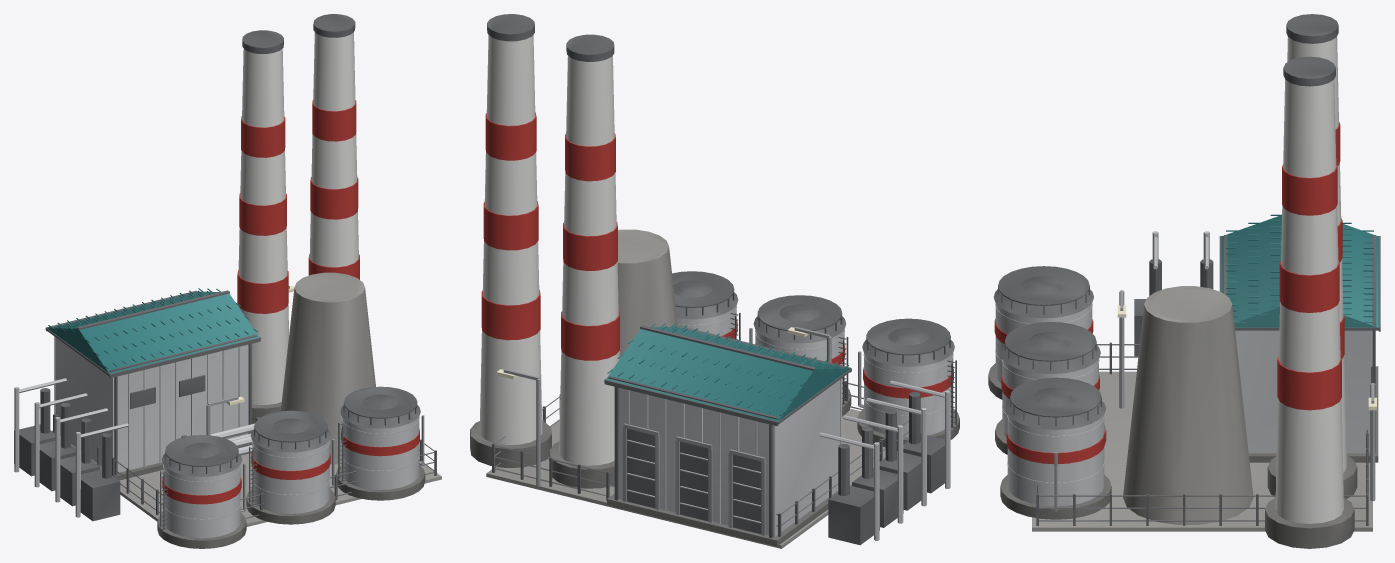
Rendered from Power_P3.fbx.
The picture shows the model from 3 angles, left to right: view 1: azimuth 30°, elevation 25°; view 2: azimuth 150°, elevation 25°; view 3: azimuth 270°, elevation 25°; orthographic projection. The views are drawn at different scales.
Parts seen in each view (by area): view 1: Power.Hall, Power.Stack0, Power.Stack1, Power.CoolingTowers, Power.Tank2, Power.Tank0, Power.Tank1, Power.Switchyard, Power.Yard, Power.Fence, Power.Pipes; view 2: Power.Hall, Power.Stack1, Power.Stack0, Power.Switchyard, Power.Tank0, Power.CoolingTowers, Power.Tank1, Power.Tank2, Power.Yard, Power.Fence, Power.Lamp1; view 3: Power.Stack1, Power.CoolingTowers, Power.Hall, Power.Tank2, Power.Yard, Power.Tank0, Power.Tank1, Power.Stack0, Power.Fence, Power.Switchyard, Power.Lamp0, Power.Lamp1.
Part boxes in pixels (<box>): Power.Hall: <box>45,288,260,480</box>; Power.Stack0: <box>237,30,288,423</box>; Power.Stack1: <box>308,14,359,279</box>; Power.CoolingTowers: <box>281,272,375,464</box>; Power.Tank2: <box>336,386,425,500</box>; Power.Tank0: <box>157,435,246,548</box>; Power.Tank1: <box>246,410,335,524</box>; Power.Switchyard: <box>14,378,128,521</box>; Power.Yard: <box>119,453,441,526</box>; Power.Fence: <box>53,414,436,518</box>; Power.Pipes: <box>181,417,259,455</box>; Power.Hall: <box>604,323,851,546</box>; Power.Stack1: <box>470,14,551,467</box>; Power.Stack0: <box>549,34,619,488</box>; Power.Switchyard: <box>819,380,950,545</box>; Power.Tank0: <box>857,318,959,447</box>; Power.CoolingTowers: <box>617,229,677,358</box>; Power.Tank1: <box>749,295,851,416</box>; Power.Tank2: <box>672,271,740,340</box>; Power.Yard: <box>486,408,885,548</box>; Power.Fence: <box>492,381,908,536</box>; Power.Lamp1: <box>496,369,540,486</box>; Power.Stack1: <box>1265,56,1354,548</box>; Power.CoolingTowers: <box>1123,286,1253,524</box>; Power.Hall: <box>1219,214,1380,462</box>; Power.Tank2: <box>1000,377,1111,519</box>; Power.Yard: <box>1032,371,1372,531</box>; Power.Tank0: <box>988,266,1099,399</box>; Power.Tank1: <box>995,322,1106,454</box>; Power.Stack0: <box>1267,14,1357,498</box>; Power.Fence: <box>1036,342,1368,525</box>; Power.Switchyard: <box>1134,231,1213,356</box>; Power.Lamp0: <box>1117,290,1126,408</box>; Power.Lamp1: <box>1368,383,1376,501</box>.
Bounding box in the file's own units: 3553 × 3621 × 2761.
